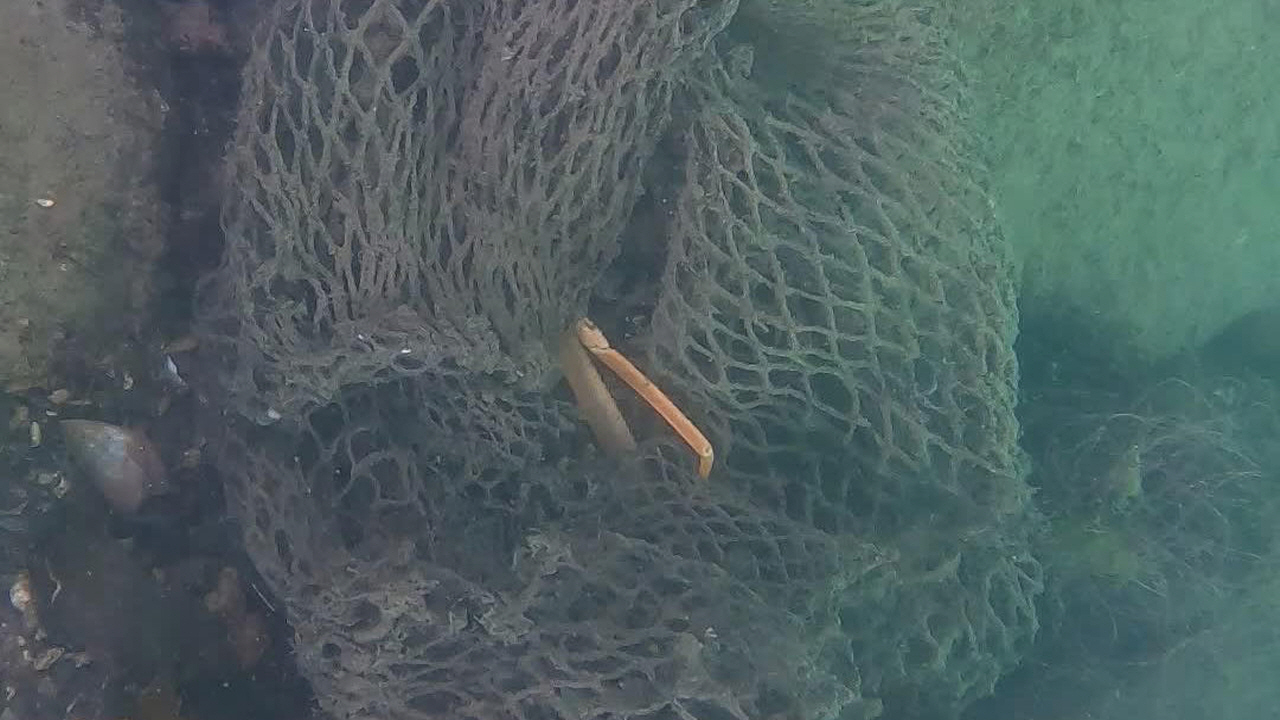fish net: (225, 0, 1046, 720)
